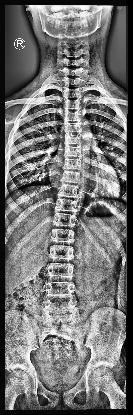Vertebrae: (46, 282, 74, 298), (44, 301, 76, 315), (47, 264, 74, 278), (49, 246, 74, 260), (51, 230, 75, 243), (55, 200, 76, 213), (54, 214, 76, 226), (62, 172, 80, 184), (65, 134, 82, 146), (59, 186, 79, 196), (64, 88, 82, 98), (64, 100, 82, 110), (64, 111, 82, 121), (64, 147, 82, 157), (64, 160, 82, 170), (65, 123, 82, 133)
